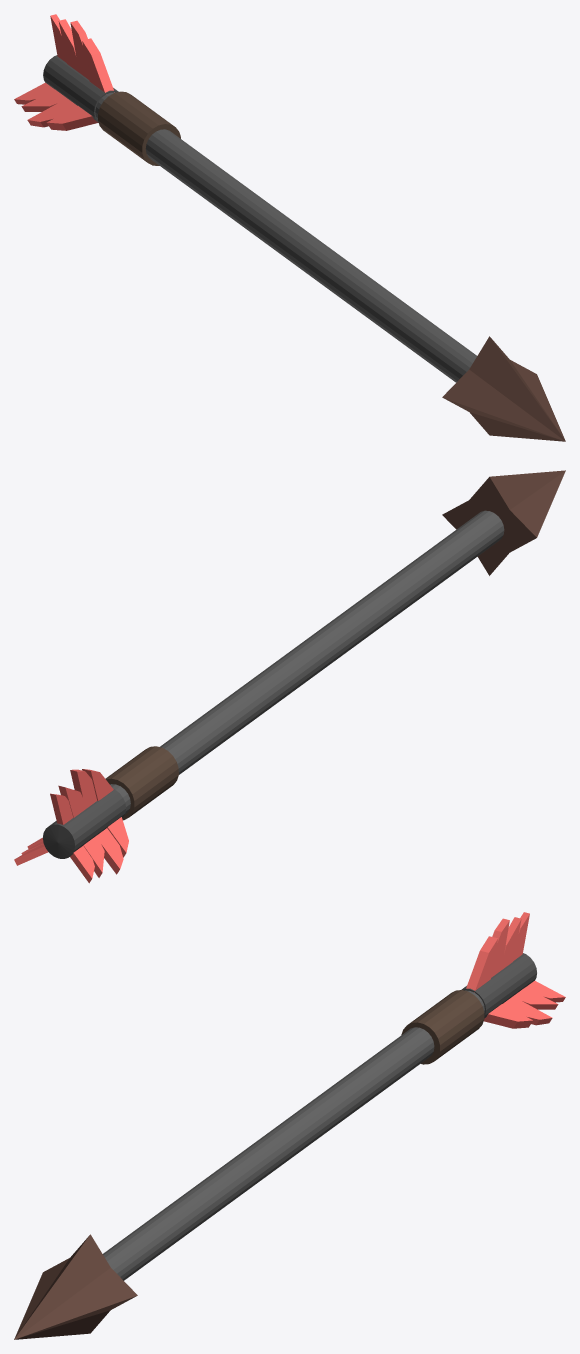
The model's file is Arrow_1.fbx.
3 renders of one model, top to bottom at view 1: azimuth 30°, elevation 25°; view 2: azimuth 150°, elevation 25°; view 3: azimuth 330°, elevation 25°, orthographic.
Parts seen in each view (by area): view 1: polySurface322; view 2: polySurface322; view 3: polySurface322.
Part boxes in pixels (x1,y1,x2,y2): polySurface322: (14,14,565,441); polySurface322: (14,470,565,883); polySurface322: (14,912,565,1339).
Size of the model in its own units: 0.1186 by 0.131 by 1.11.
